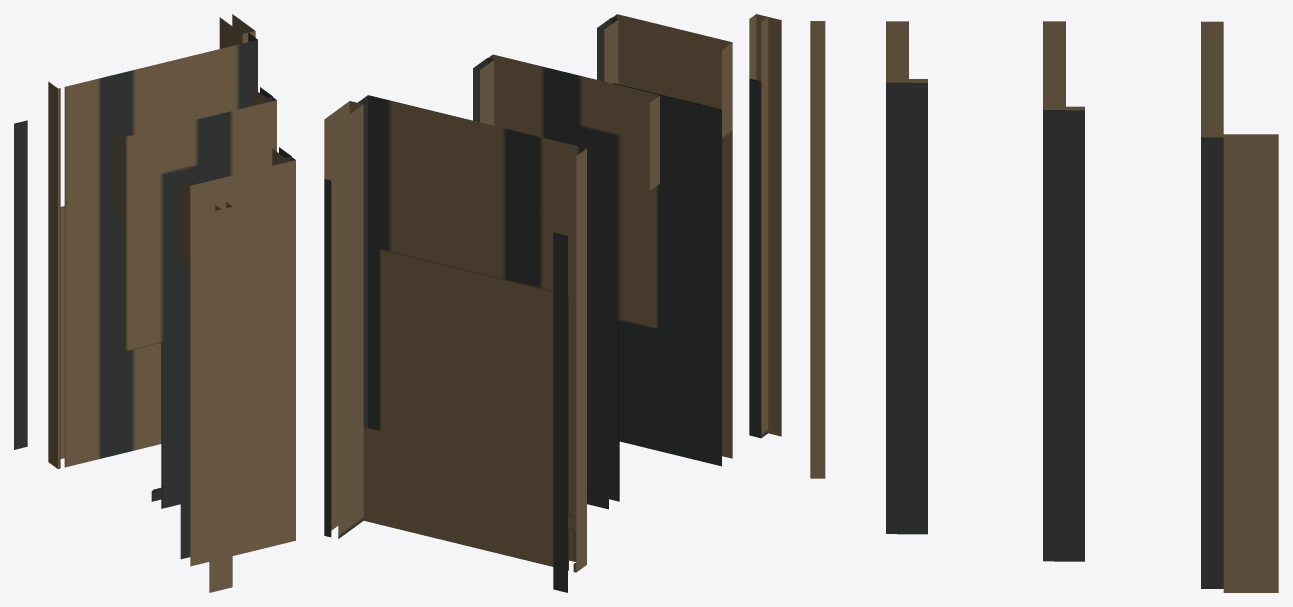
The model's file is section-5.obj.
3 renders of one model, left to right at view 1: azimuth 30°, elevation 25°; view 2: azimuth 150°, elevation 25°; view 3: azimuth 270°, elevation 25°, orthographic. The views are drawn at different scales.
Bounding box in the file's own units: 0.606 × 1 × 0.94.
